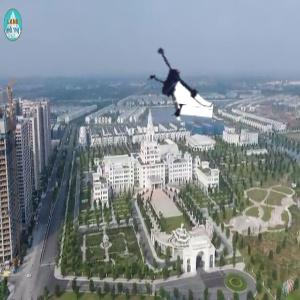drone: (133, 38, 217, 122)
